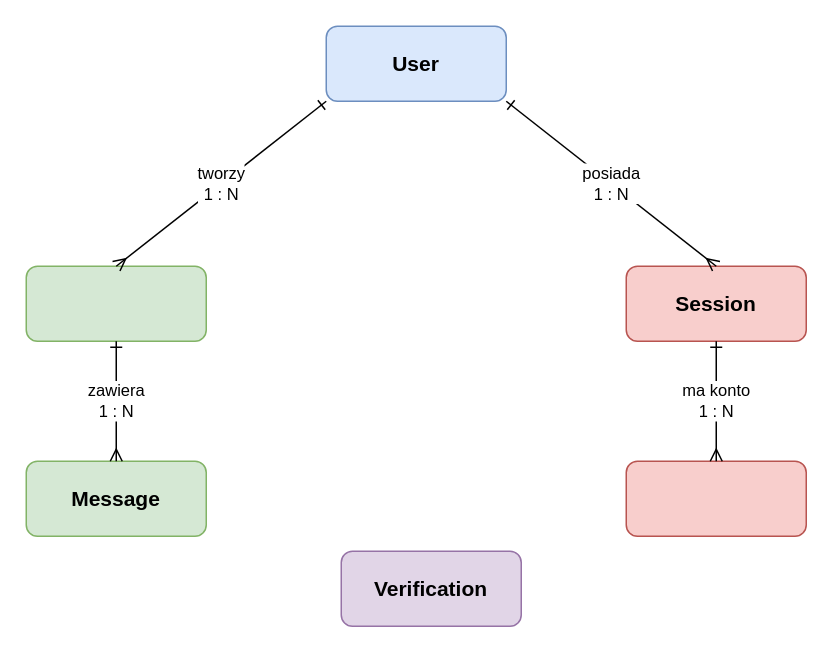
This 833x653 diagram has some shape labels left out. The centre of each missing label's shape, as x and y in pixels:
"Account" goes at pixel 715 498.
"Room" goes at pixel 115 303.
